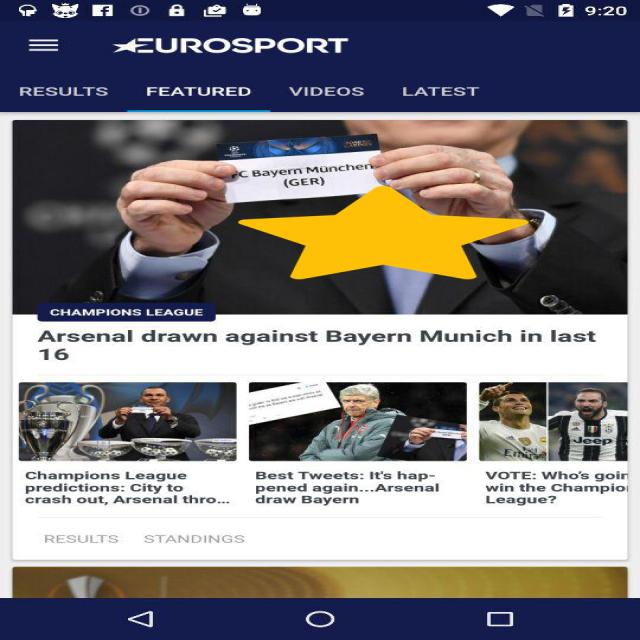forced continuity: (238, 186, 529, 279)
